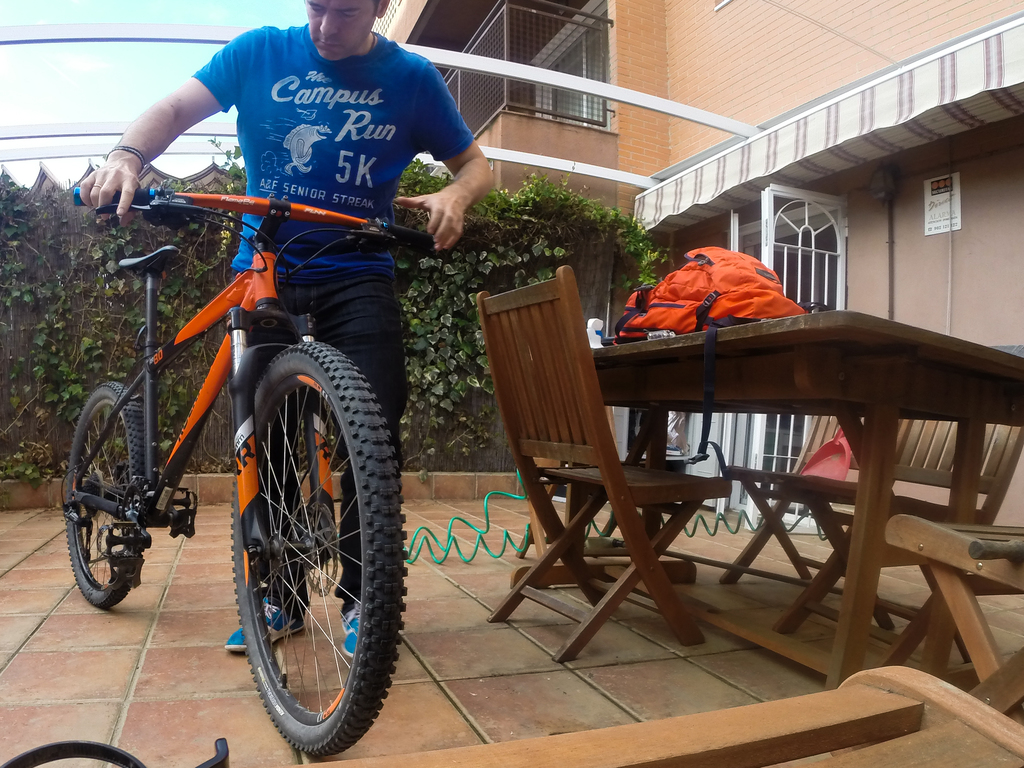Bike_toward: (53, 180, 453, 757)
